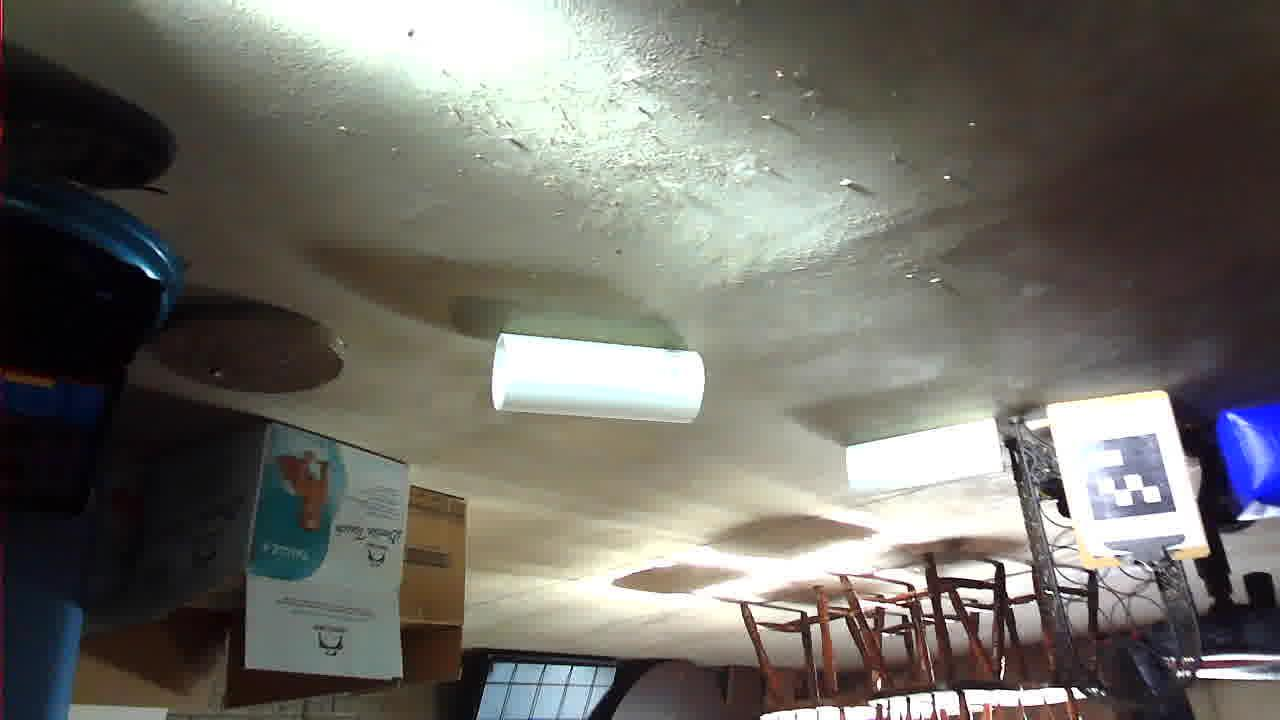coral: (575, 297, 788, 387), (272, 227, 435, 290)
